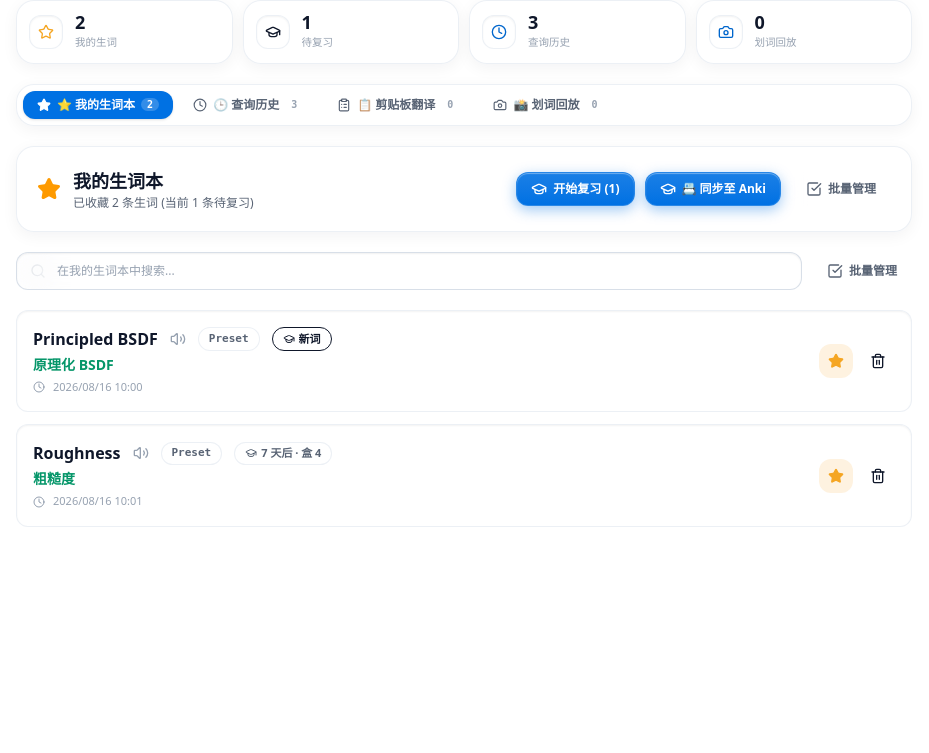
Test: vocabulary review mode (Leitner flashcards) › review pool = favourites only; non-favourites never enter the queue
Expected: the text "Principled BSDF" is shown, [33,327,158,351]
Expected: the text "待复习" is shown, [302,35,333,51]
Click the button "开始复习 (1)" at (575, 189), box [516,172,634,206]
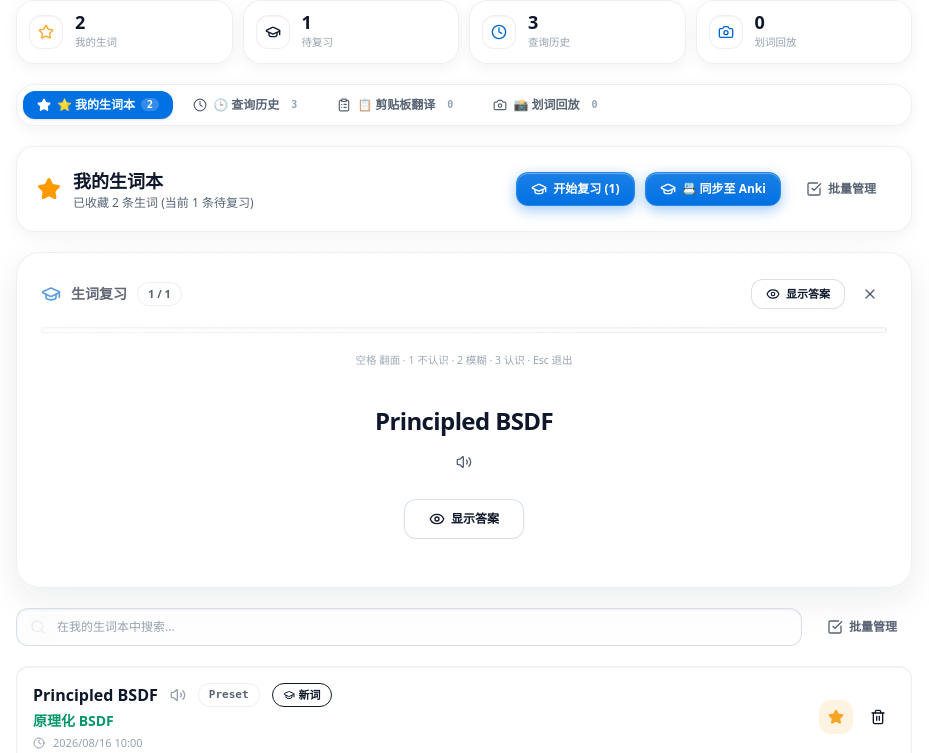
Now the heading "生词复习" is shown, box [71,284,127,304]
Now the text "1 / 1" is shown, box [137,282,182,306]
Press Space
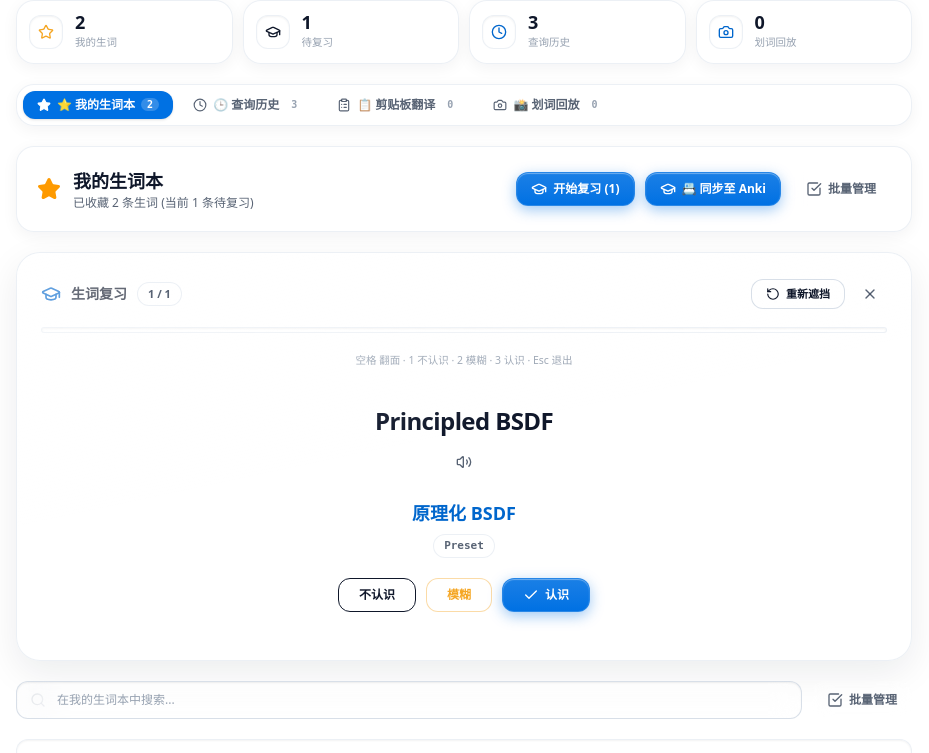
Now the text "不认识" is shown, box [359,586,395,604]
Press 3
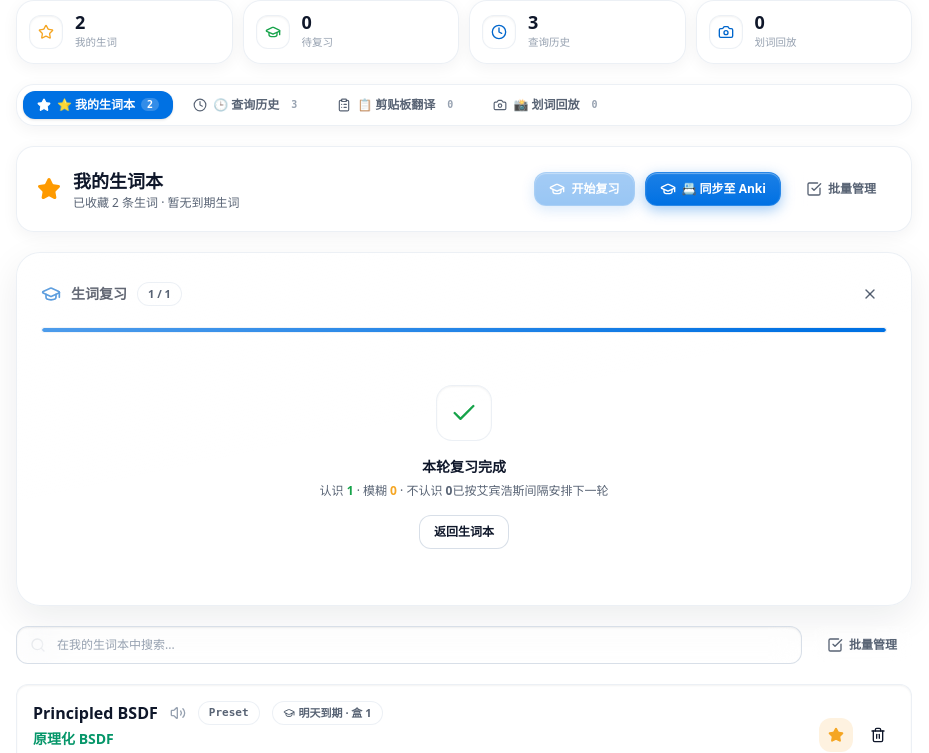
Now the heading "本轮复习完成" is shown, box [422,457,506,476]
Now the text "认识 1 · 模糊 0 · 不认识 0已按艾宾浩斯间隔安排下一轮" is shown, box [320,482,608,499]
